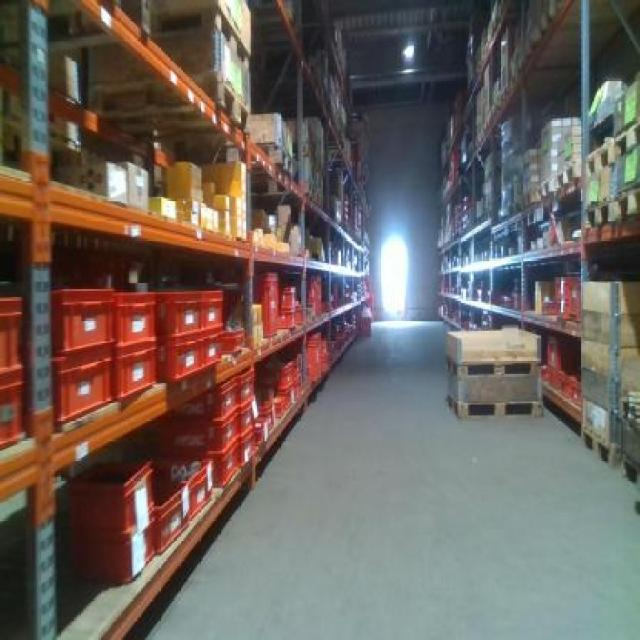pallet: (579, 113, 638, 180), (444, 389, 552, 424), (442, 348, 544, 384), (574, 414, 626, 468), (579, 194, 640, 227)
